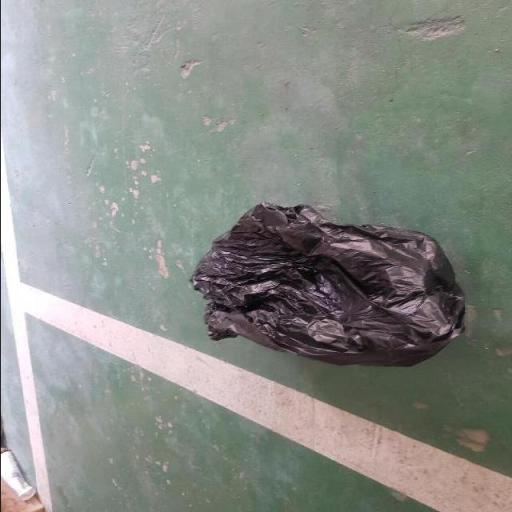plastic-bag: (186, 198, 468, 371)
